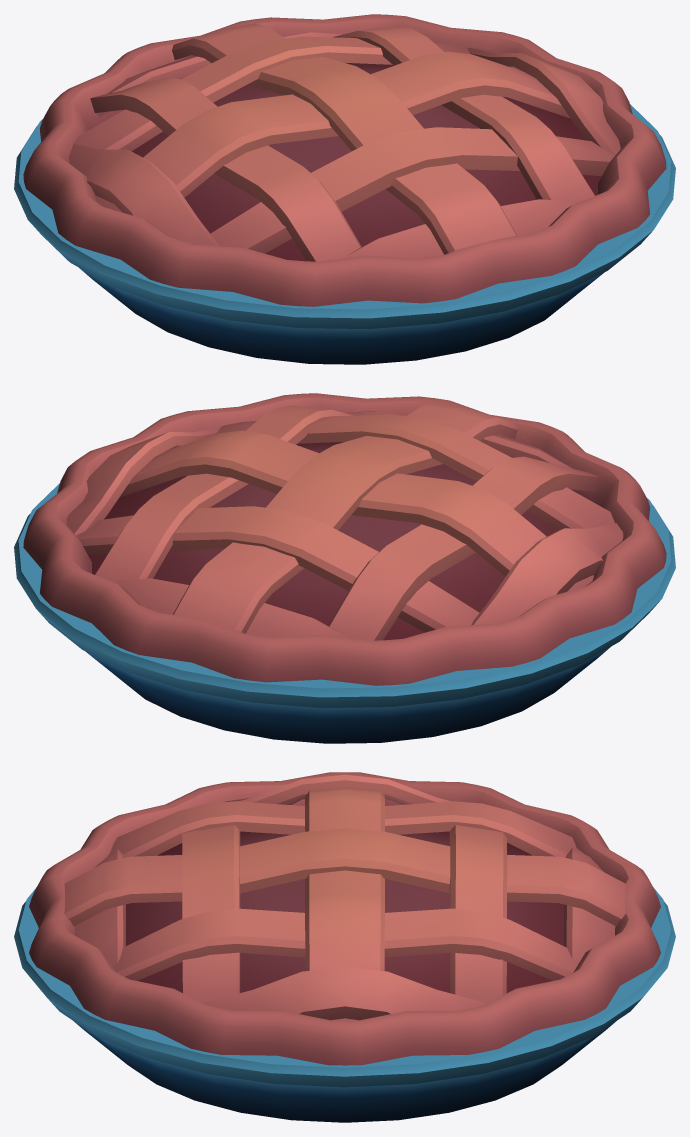
File: SM_Pie_V03.fbx
3 views of the same model, one above another, from view 1: azimuth 30°, elevation 25°; view 2: azimuth 150°, elevation 25°; view 3: azimuth 270°, elevation 25° (orthographic).
Parts seen in each view (by area): view 1: SM_Pie_V03; view 2: SM_Pie_V03; view 3: SM_Pie_V03.
Part boxes in pixels (x1,y1,x2,y2): SM_Pie_V03: (14,14,675,364); SM_Pie_V03: (14,393,675,743); SM_Pie_V03: (14,772,675,1122).
Bounding box in the file's own units: 41.56 × 12.57 × 41.56.
